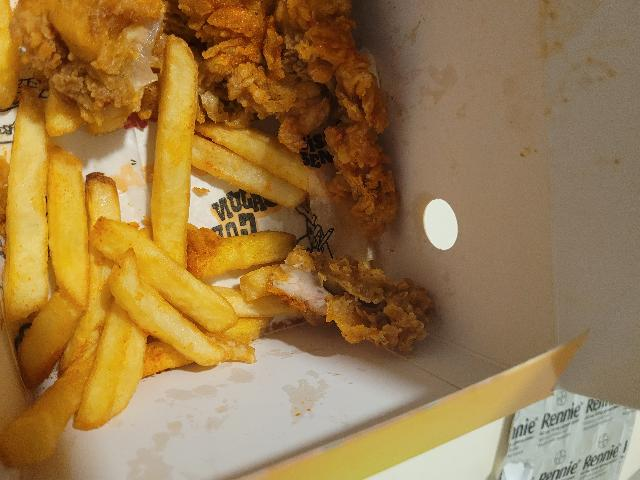Organik: (19, 0, 405, 266), (3, 141, 225, 380)
